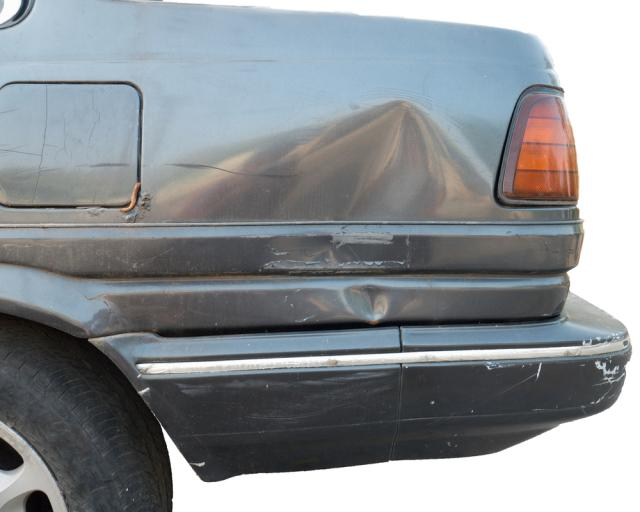dent: (160, 102, 495, 222), (342, 283, 390, 321)
scratch: (581, 329, 633, 387)
